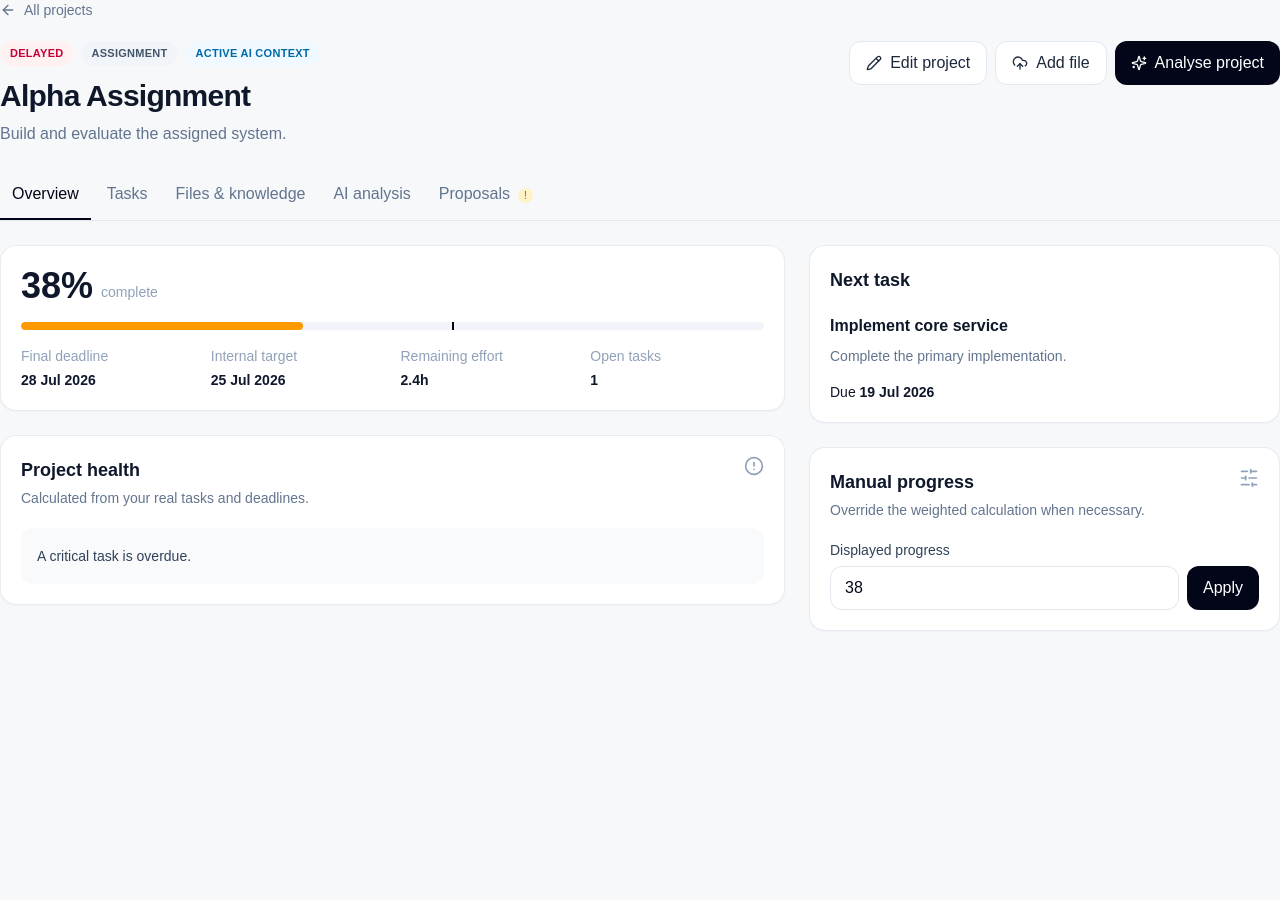
it: Project workflows › edits the project name and project details
Click the button "Edit project" at (918, 63), box [849, 41, 987, 85]
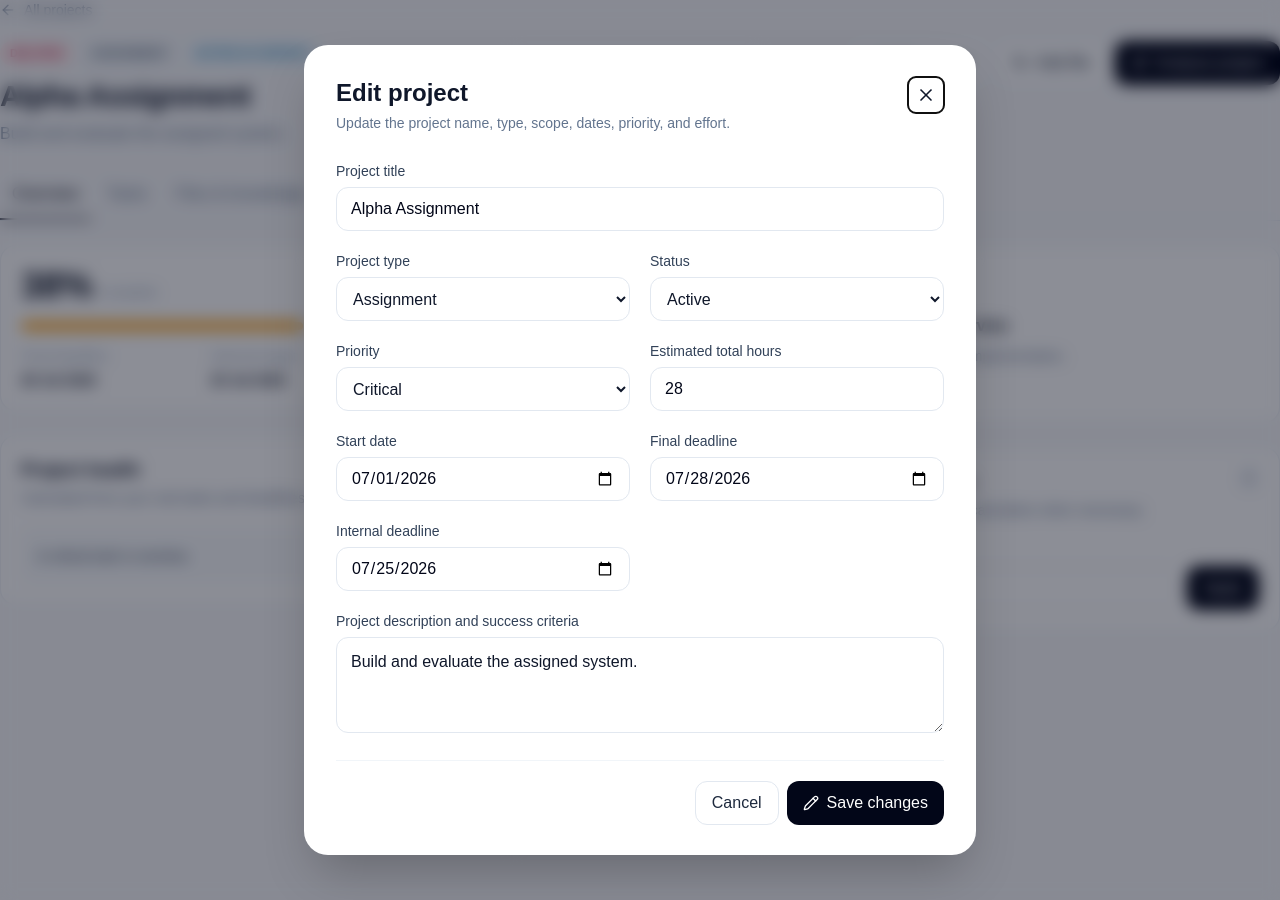
Replace the text in the field labelled "Project title" with "Digital Entrepreneurship" at (640, 209), box [336, 187, 944, 231]
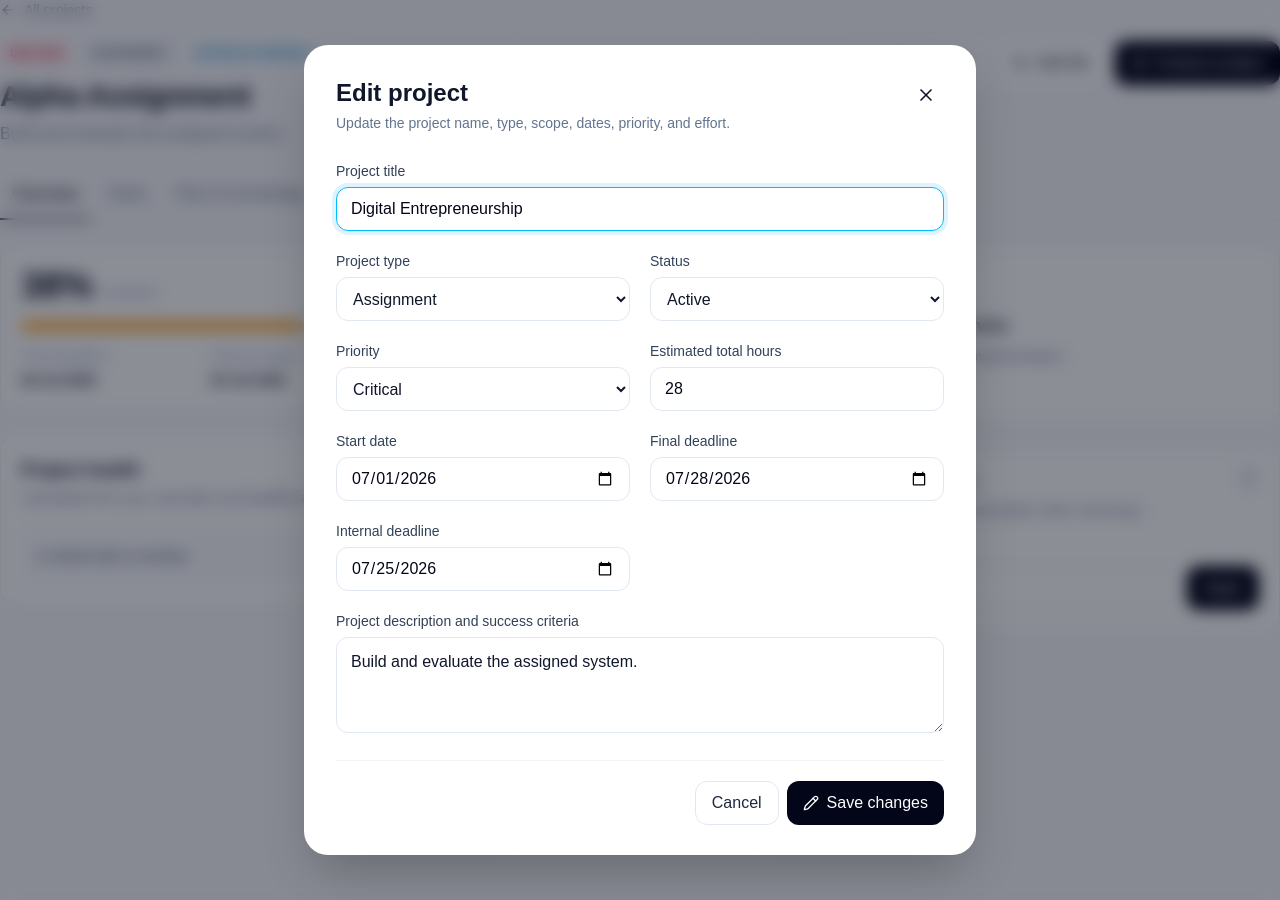
Select "Subject" in the dropdown labelled "Project type" at (483, 299), box [336, 277, 630, 321]
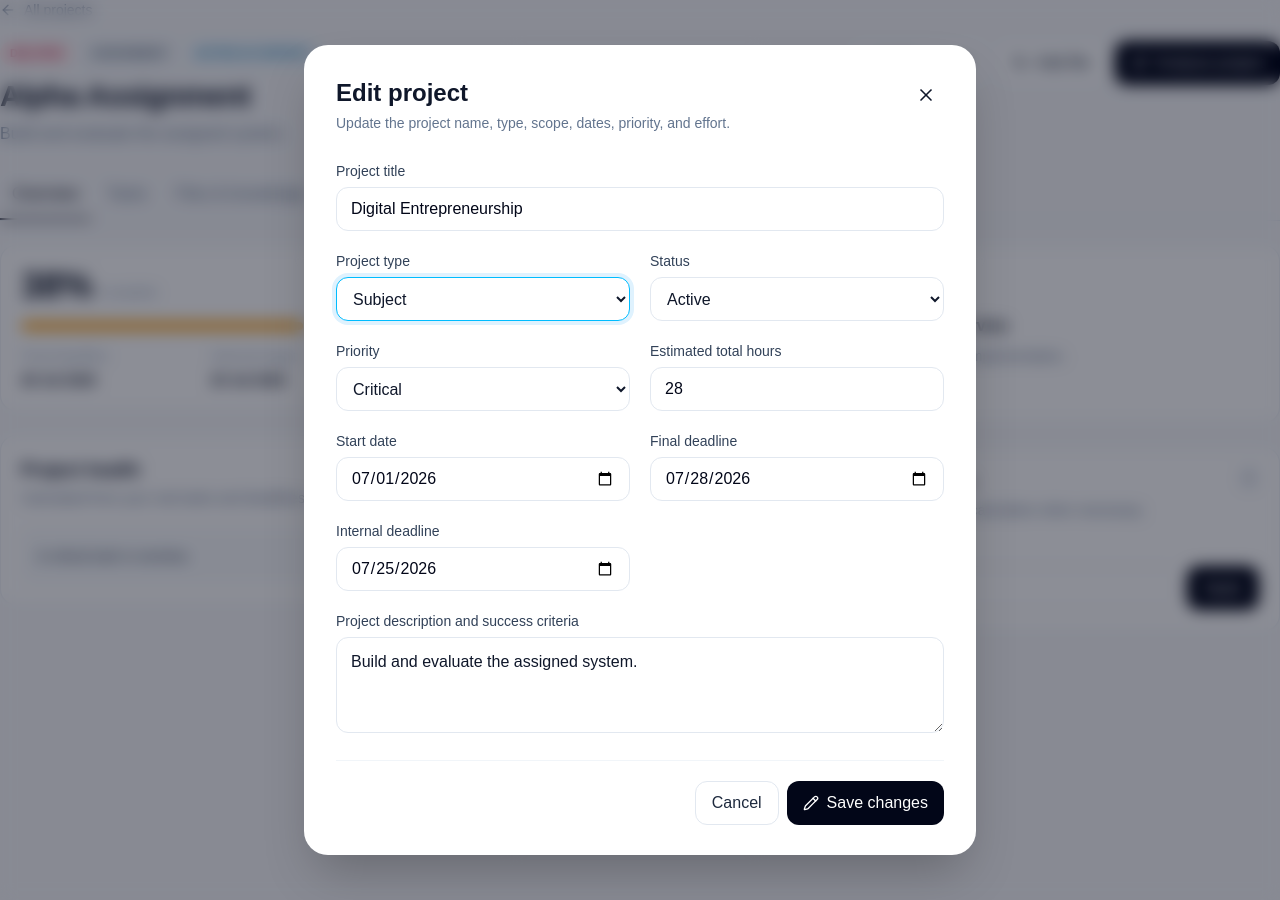
Click the button "Save changes" at (865, 803), box [787, 781, 944, 825]
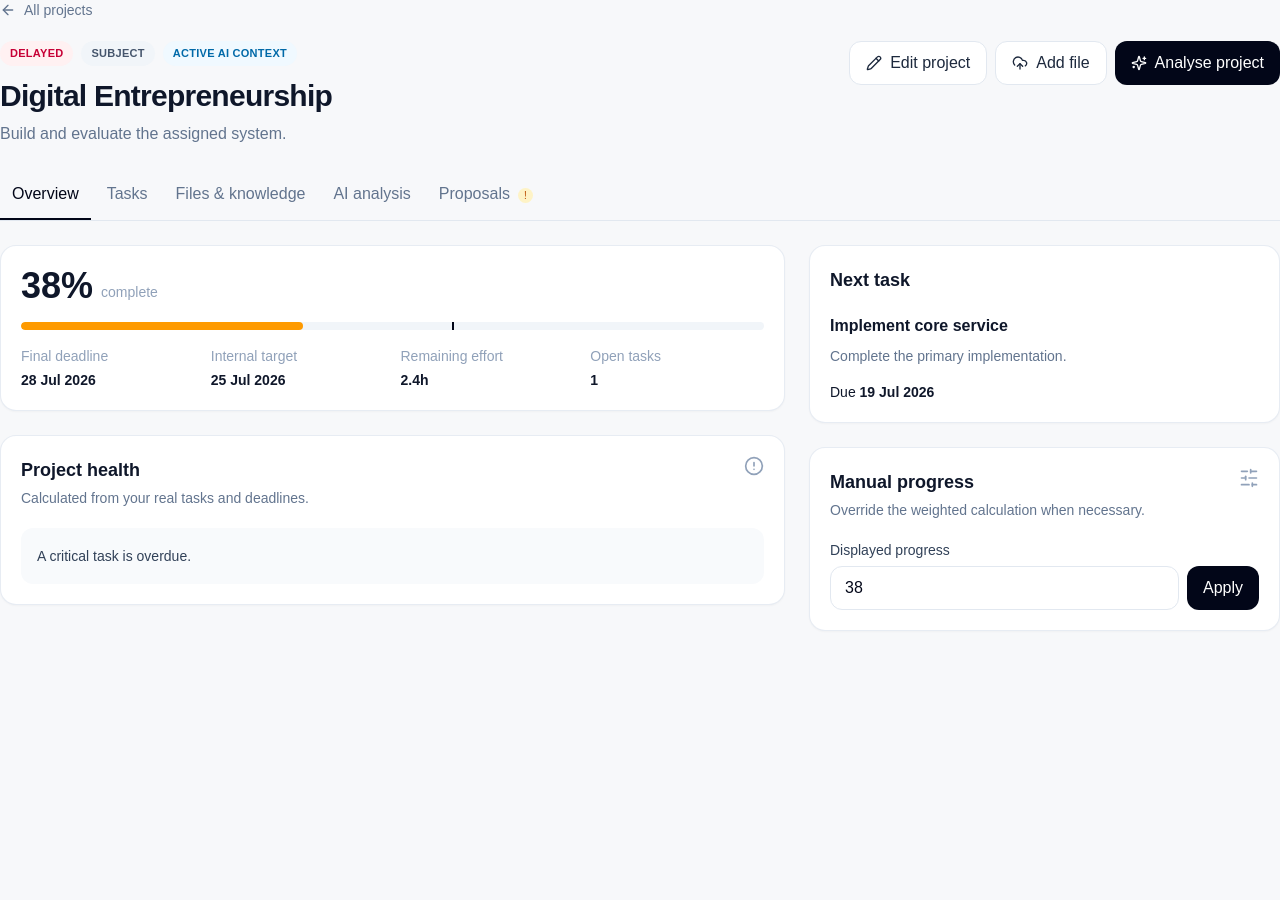
expect the heading "Digital Entrepreneurship" is shown: met, box [0, 78, 332, 114]
